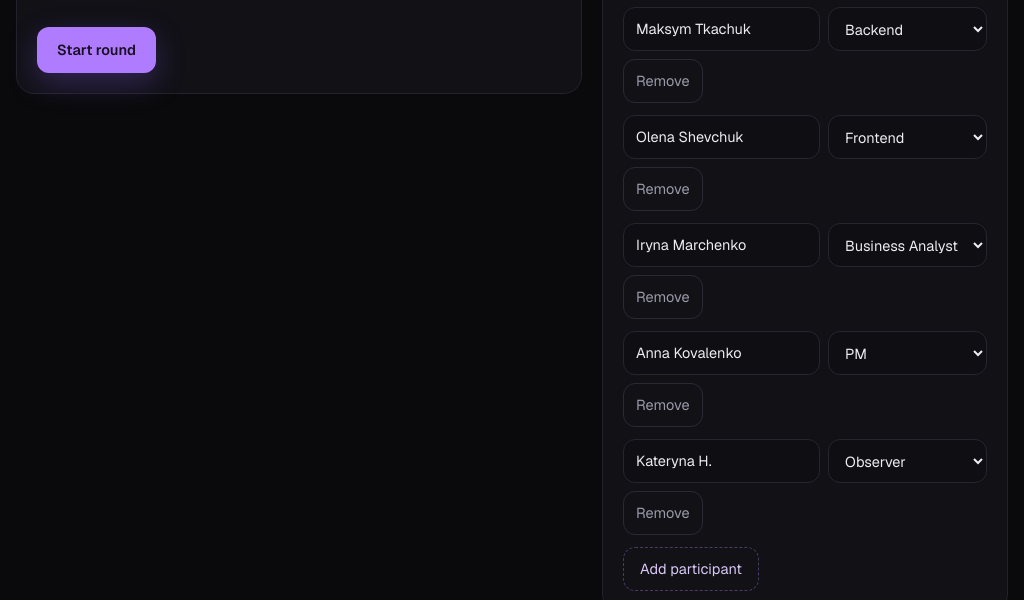
Scenario: roster validation gates the start › blocks an unnamed participant
(page scrolled)
Click the button "Add participant" at (691, 569), box [623,547,759,591]
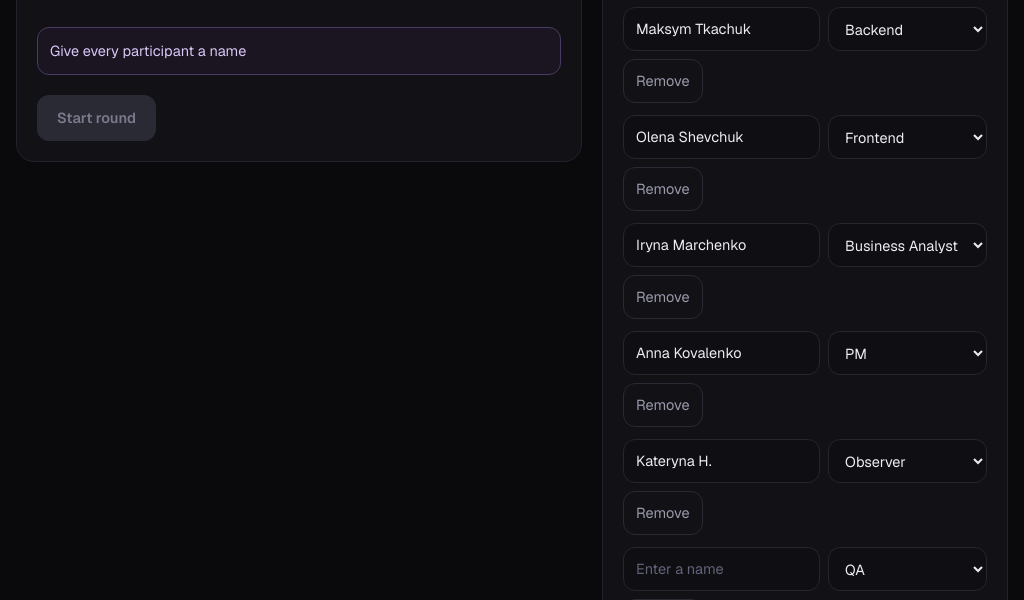
Check: the list item "Give every participant a name" is shown, box [50,41,246,60]
Check: the button "Start round" is disabled, box [37,95,156,141]
